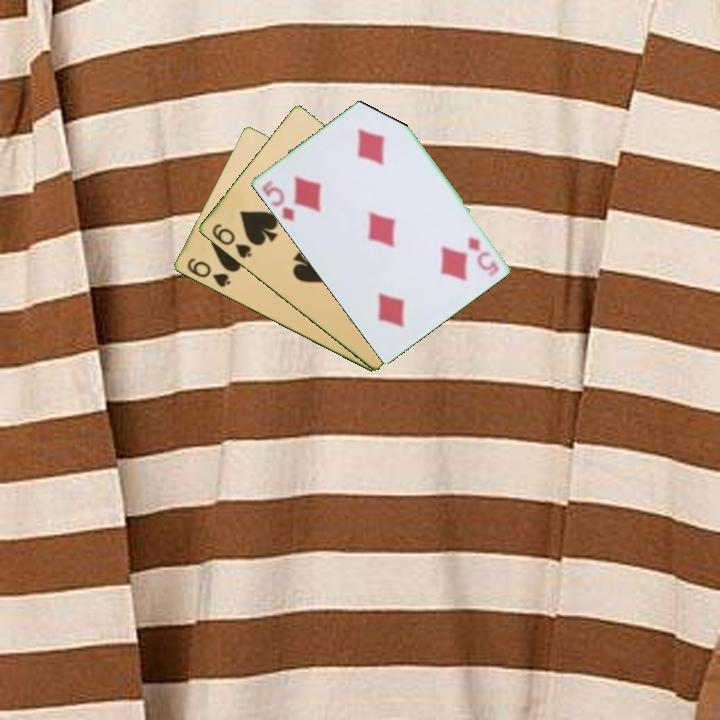5d: (258, 176, 297, 225), (464, 232, 501, 274)
6s: (208, 220, 254, 261), (183, 254, 233, 290)
